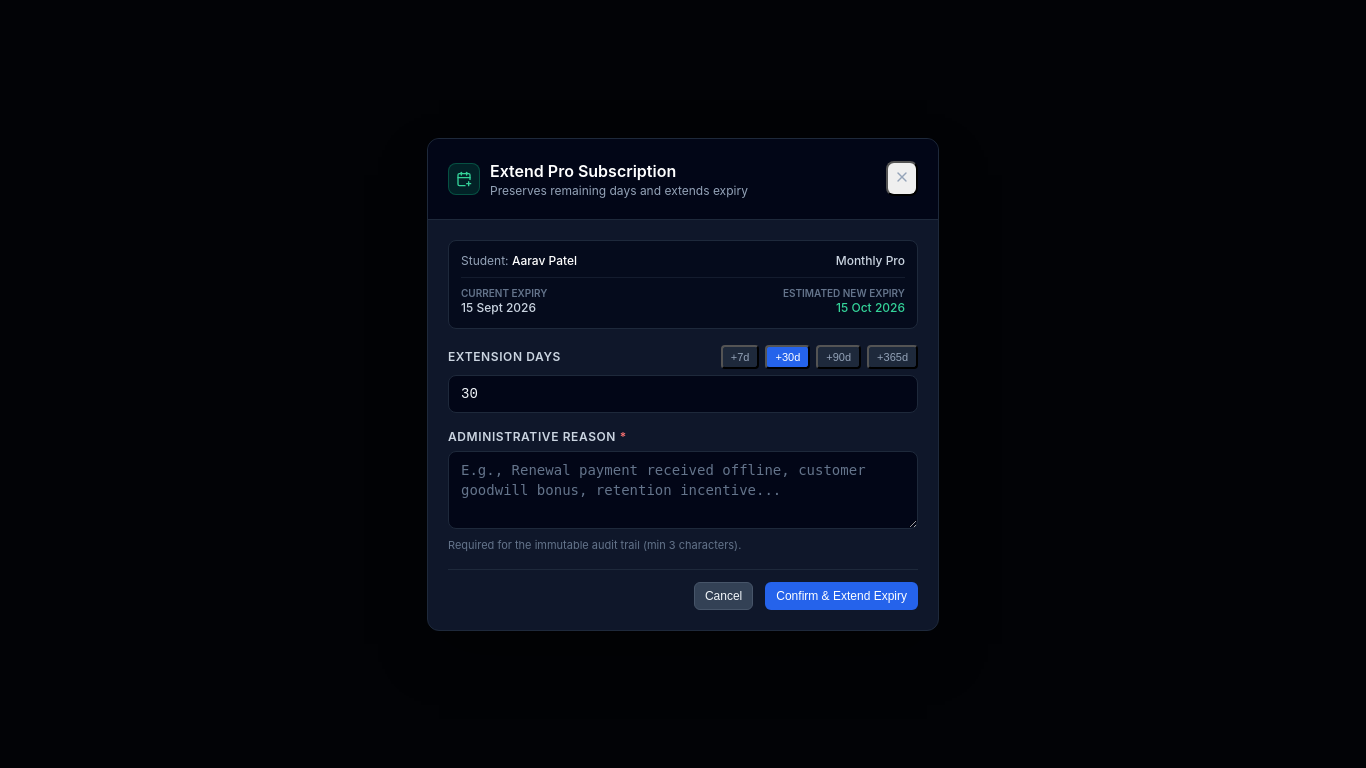
Test: PHASE 6 — Subscription Mutation Modals & Workflows Tests › ExtendSubscriptionModal › 5. handles 409 Conflict error safely
The width and height of the screenshot is (1366, 768).
Replace the text in the text box labelled "Administrative Reason *" with "Test extension": x=683, y=490 [448, 450, 918, 528]
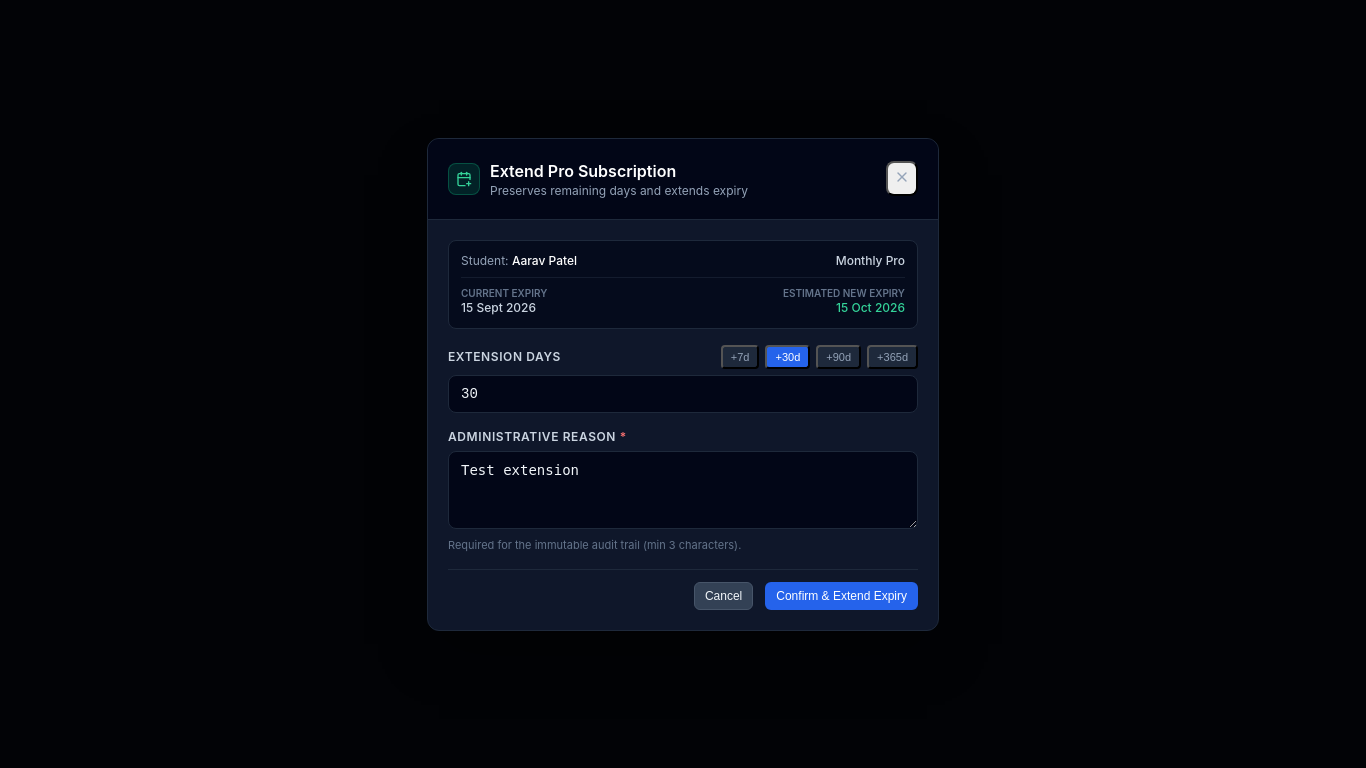
Click the button "Confirm & Extend Expiry": x=842, y=596 [765, 582, 918, 610]
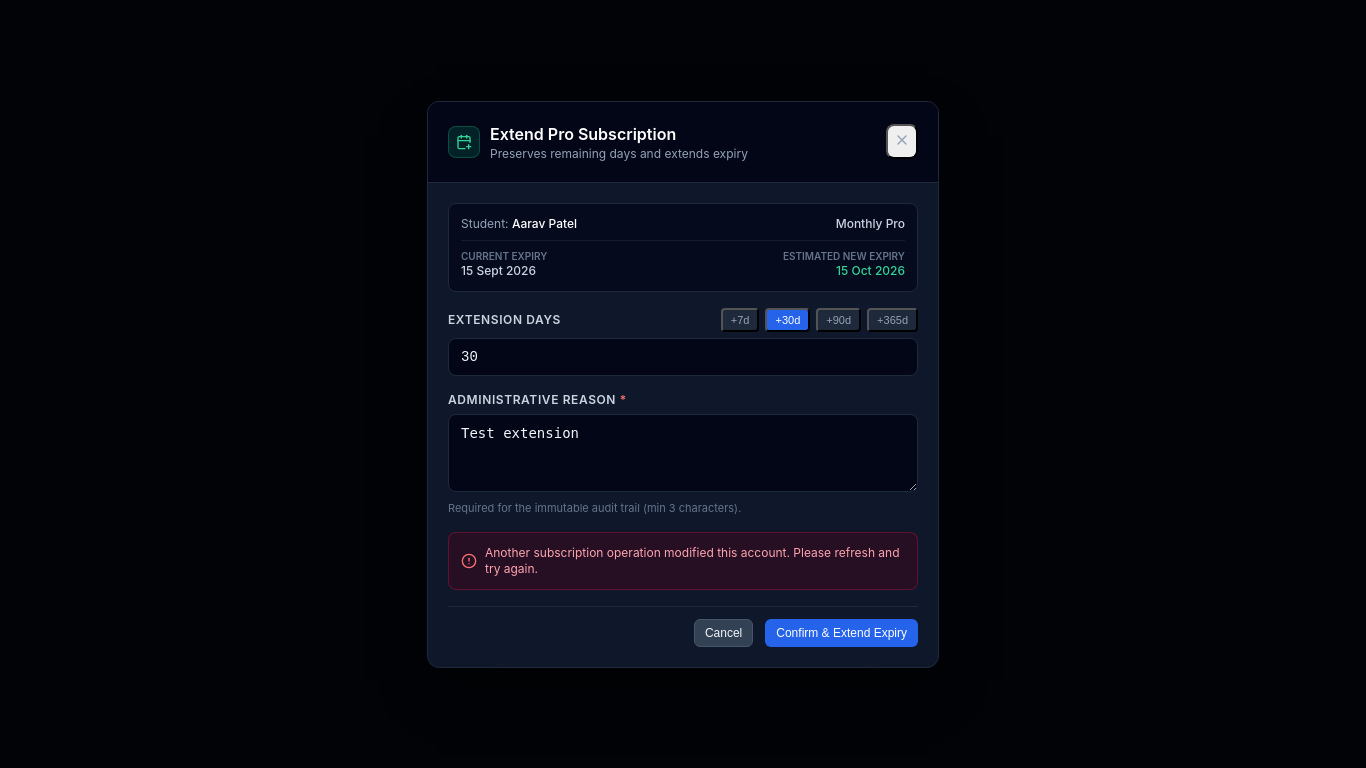
Expected: the text "Another subscription operation modified this account" is shown, [485, 544, 900, 576]
